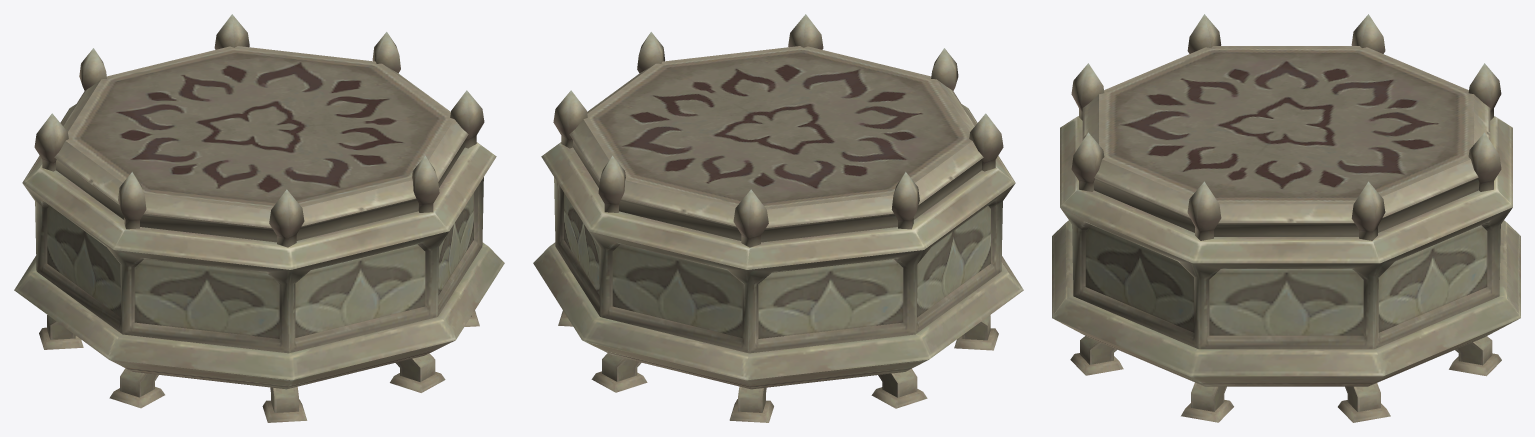
File: Homeworld_Interior_Xm_Decoration_Prop_Incenseburner_02_Lod0.fbx
The picture shows the model from 3 angles, left to right: view 1: azimuth 30°, elevation 25°; view 2: azimuth 150°, elevation 25°; view 3: azimuth 270°, elevation 25°; orthographic projection. The views are drawn at different scales.
Visible parts, largest first — view 1: Area_Xm_Prop_XKC_Chengshixianglu_03_Lod0; view 2: Area_Xm_Prop_XKC_Chengshixianglu_03_Lod0; view 3: Area_Xm_Prop_XKC_Chengshixianglu_03_Lod0.
Boxes of the visible parts, x1,y1,x2,y2 form: Area_Xm_Prop_XKC_Chengshixianglu_03_Lod0: [14, 14, 504, 422]; Area_Xm_Prop_XKC_Chengshixianglu_03_Lod0: [533, 14, 1023, 422]; Area_Xm_Prop_XKC_Chengshixianglu_03_Lod0: [1052, 14, 1520, 422].
Bounding box in the file's own units: 1.65 × 0.9064 × 1.65.
